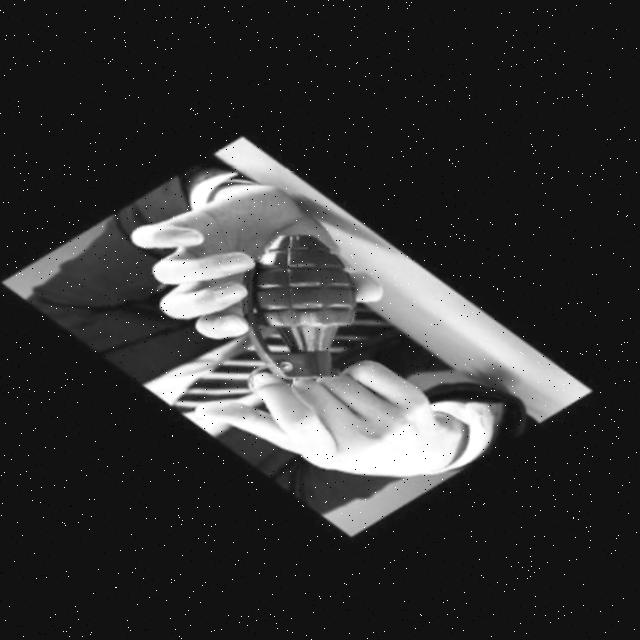grenade: (210, 190, 408, 419)
